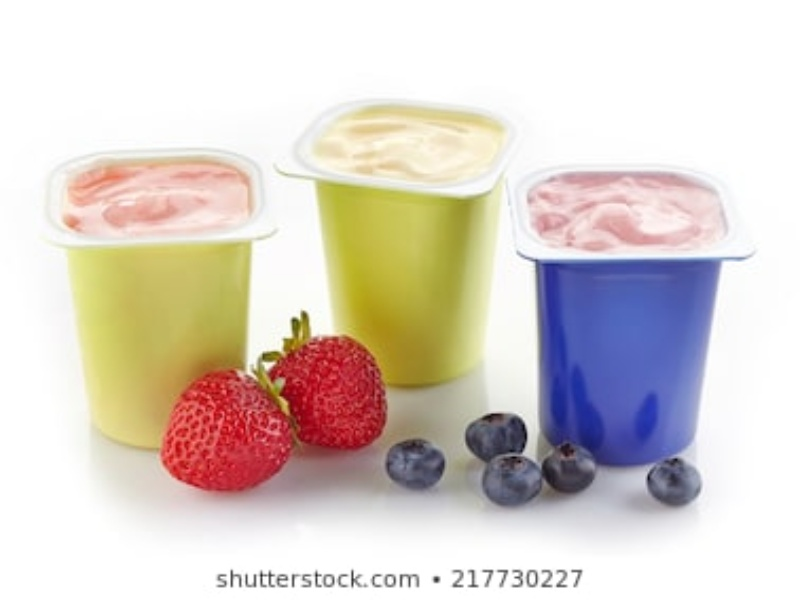yogurt-cup: (509, 166, 758, 464), (39, 143, 275, 447), (282, 91, 523, 387)
